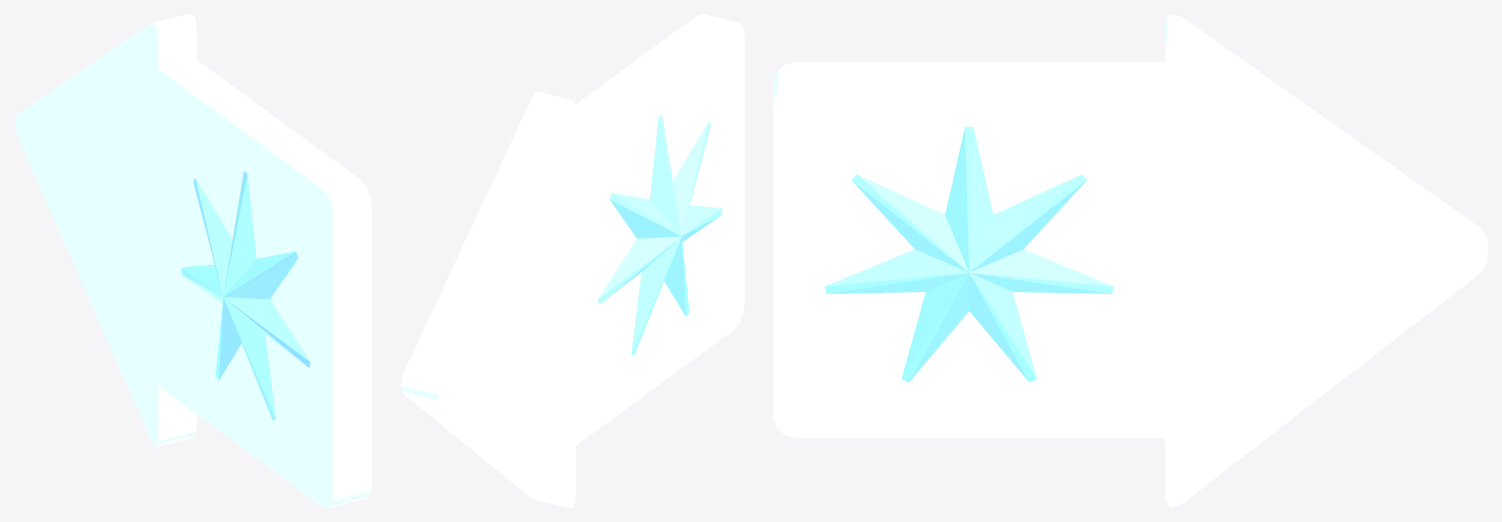
Rendered from marker_divine.dae.
3 renders of one model, left to right at view 1: azimuth 30°, elevation 25°; view 2: azimuth 150°, elevation 25°; view 3: azimuth 270°, elevation 25°, orthographic. The views are drawn at different scales.
Parts seen in each view (by area): view 1: MarkerPrison.001, Circle.002; view 2: MarkerPrison.001, Circle.002; view 3: MarkerPrison.001, Circle.002.
Part boxes in pixels (x1,y1,x2,y2): MarkerPrison.001: [14, 14, 371, 507]; Circle.002: [181, 171, 310, 420]; MarkerPrison.001: [400, 14, 744, 507]; Circle.002: [598, 115, 722, 354]; MarkerPrison.001: [773, 14, 1487, 507]; Circle.002: [824, 126, 1113, 382].
Bounding box in the file's own units: 23.97 × 159 × 116.
